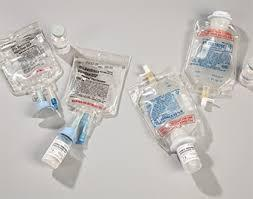Iv_Bottle: (130, 65, 201, 172), (0, 22, 62, 116), (183, 11, 237, 110), (42, 112, 81, 168), (239, 57, 252, 87)
